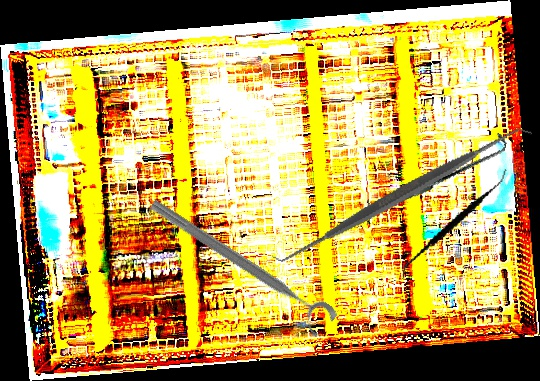Fixation Ring: (139, 194, 340, 341)
Hook Surgical: (357, 102, 509, 249)
Spatula Surgical: (271, 59, 533, 330), (400, 150, 509, 299)
